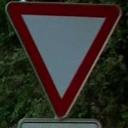preferencia: (4, 1, 124, 118)
